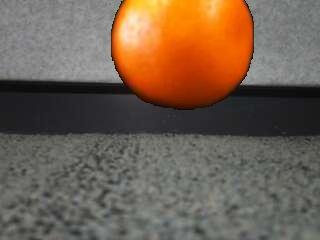Orange: (112, 2, 257, 111)
